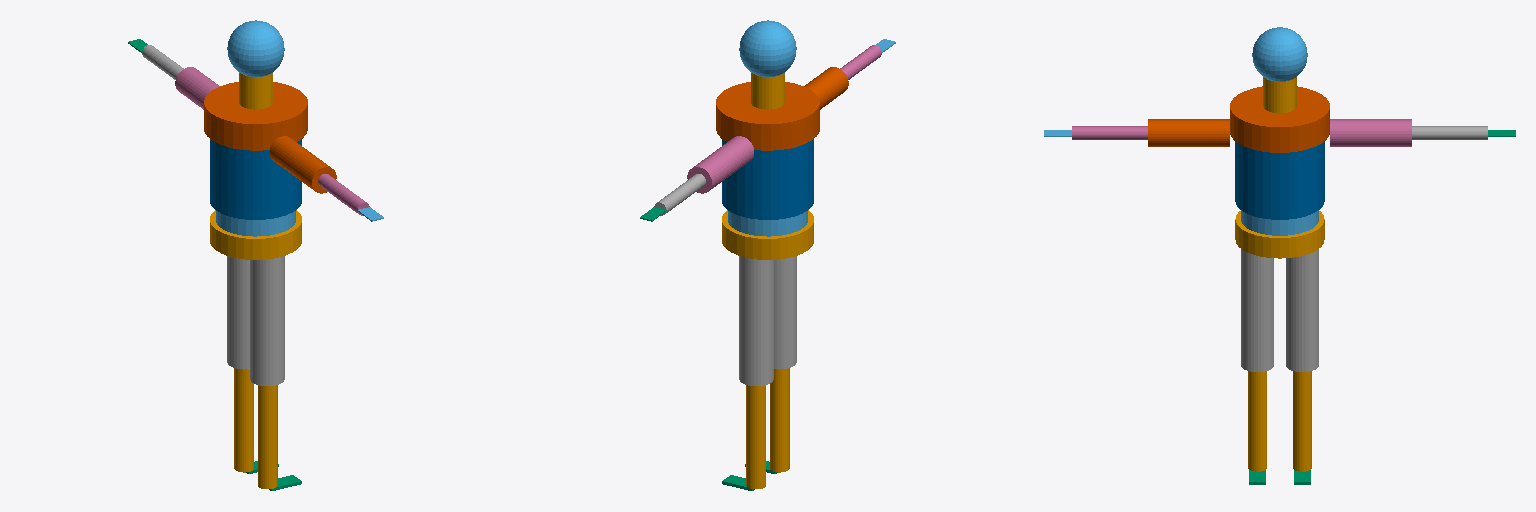
URDF robot description (human_model):
<?xml version="1.0" ?>
<robot name="human_model" xmlns:xacro="http://playerstage.sourceforge.net/gazebo/xmlschema/#interface">
  <link name="human/base">
    <visual>
      <origin rpy="0 0 0" xyz="0 0 -0.0405569060538"/>
      <geometry>
        <cylinder length="-0.0811138121076" radius="0.161172520845"/>
      </geometry>
    </visual>
  </link>
  <link name="human/spine_0">
    <visual>
      <origin rpy="0 0 0" xyz="0 0 0.0363124478192"/>
      <geometry>
        <cylinder length="0.0726248956383" radius="0.141172520845"/>
      </geometry>
    </visual>
  </link>
  <link name="human/spine_1"/>
  <link name="human/spine_2"/>
  <link name="human/spine">
    <visual>
      <origin rpy="0 0 0" xyz="0 0 0.137944030927"/>
      <geometry>
        <cylinder length="0.275888061853" radius="0.161172520845"/>
      </geometry>
    </visual>
  </link>
  <link name="human/shoulder_center">
    <visual>
      <origin rpy="0 0 0" xyz="0 0 0.050635057485"/>
      <geometry>
        <cylinder length="0.10127011497" radius="0.181172520845"/>
      </geometry>
    </visual>
  </link>
  <link name="human/neck_0"/>
  <link name="human/neck_1"/>
  <link name="human/neck">
    <visual>
      <origin rpy="0 0 0" xyz="0 0 0.102139711472"/>
      <geometry>
        <cylinder length="0.204279422944" radius="0.06"/>
      </geometry>
    </visual>
  </link>
  <link name="human/head">
    <visual>
      <origin rpy="0 0 0" xyz="0 0 0"/>
      <geometry>
        <sphere radius="0.1"/>
      </geometry>
    </visual>
  </link>
  <joint name="hip" type="fixed">
    <origin rpy="0 0 0" xyz="0 0 0"/>
    <parent link="human/base"/>
    <child link="human/spine_0"/>
  </joint>
  <!-- SPINE : spherical -->
  <joint name="spine_0" type="revolute">
    <origin rpy="0 0 0" xyz="0 0 0.0726248956383"/>
    <axis xyz="1 0 0"/>
    <parent link="human/spine_0"/>
    <child link="human/spine_1"/>
    <limit effort="1" lower="-1.57079632679" upper="1.57079632679" velocity="1"/>
  </joint>
  <joint name="spine_1" type="revolute">
    <origin rpy="0 0 0" xyz="0 0 0"/>
    <axis xyz="0 1 0"/>
    <parent link="human/spine_1"/>
    <child link="human/spine_2"/>
    <limit effort="1" lower="-1.57079632679" upper="1.57079632679" velocity="1"/>
  </joint>
  <joint name="spine_2" type="revolute">
    <origin rpy="0 0 0" xyz="0 0 0"/>
    <axis xyz="0 0 1"/>
    <parent link="human/spine_2"/>
    <child link="human/spine"/>
    <limit effort="1" lower="-1.57079632679" upper="1.57079632679" velocity="1"/>
  </joint>
  <joint name="shoulder_center" type="fixed">
    <origin rpy="0 0 0" xyz="0 0 0.275888061853"/>
    <parent link="human/spine"/>
    <child link="human/shoulder_center"/>
  </joint>
  <!-- NECK : spherical -->
  <joint name="neck_0" type="revolute">
    <origin rpy="0 0 0" xyz="0 0 0.10127011497"/>
    <axis xyz="1 0 0"/>
    <parent link="human/shoulder_center"/>
    <child link="human/neck_0"/>
    <limit effort="1" lower="-1.57079632679" upper="1.57079632679" velocity="1"/>
  </joint>
  <joint name="neck_1" type="revolute">
    <origin rpy="0 0 0" xyz="0 0 0"/>
    <axis xyz="0 1 0"/>
    <parent link="human/neck_0"/>
    <child link="human/neck_1"/>
    <limit effort="1" lower="-1.57079632679" upper="1.57079632679" velocity="1"/>
  </joint>
  <joint name="neck_2" type="revolute">
    <origin rpy="0 0 0" xyz="0 0 0"/>
    <axis xyz="0 0 1"/>
    <parent link="human/neck_1"/>
    <child link="human/neck"/>
    <limit effort="1" lower="-1.57079632679" upper="1.57079632679" velocity="1"/>
  </joint>
  <!-- END NECK -->
  <joint name="head" type="fixed">
    <origin rpy="0 0 0" xyz="0 0 0.204279422944"/>
    <parent link="human/neck"/>
    <child link="human/head"/>
  </joint>
  <link name="human/right_arm_mount"/>
  <link name="human/right_shoulder_0"/>
  <link name="human/right_shoulder_1"/>
  <link name="human/right_shoulder">
    <visual>
      <origin rpy="0 1.57079632679 0" xyz="0.147075804738 0 0"/>
      <geometry>
        <cylinder length="0.294151609476" radius="0.05"/>
      </geometry>
    </visual>
  </link>
  <link name="human/right_elbow">
    <visual>
      <origin rpy="0 1.57079632679 0" xyz="0.137074736994 0 0"/>
      <geometry>
        <cylinder length="0.274149473988" radius="0.025"/>
      </geometry>
    </visual>
  </link>
  <link name="human/right_wrist_0"/>
  <link name="human/right_wrist_1"/>
  <link name="human/right_wrist">
    <visual>
      <origin rpy="0 0 0" xyz="0.05 0 0"/>
      <geometry>
        <box size="0.1 0.05 .005"/>
      </geometry>
    </visual>
  </link>
  <link name="human/right_hand"/>
  <!-- Joints -->
  <joint name="right_arm_mount" type="fixed">
    <origin rpy="0 0 -1.57079632679" xyz="0 -0.181172520845 -0.00609526854636"/>
    <parent link="human/shoulder_center"/>
    <child link="human/right_arm_mount"/>
  </joint>
  <!-- SHOULDER : spherical -->
  <joint name="right_shoulder_0" type="revolute">
    <origin rpy="0 0 0" xyz="0 0 0"/>
    <axis xyz="0 1 0"/>
    <parent link="human/right_arm_mount"/>
    <child link="human/right_shoulder_0"/>
    <limit effort="1" lower="-1.57079632679" upper="1.57079632679" velocity="1"/>
  </joint>
  <joint name="right_shoulder_1" type="revolute">
    <origin rpy="0 0 0" xyz="0 0 0"/>
    <axis xyz="0 0 1"/>
    <parent link="human/right_shoulder_0"/>
    <child link="human/right_shoulder_1"/>
    <limit effort="1" lower="-1.57079632679" upper="2.35619449019" velocity="1"/>
  </joint>
  <joint name="right_shoulder_2" type="revolute">
    <origin rpy="0 0 0" xyz="0 0 0"/>
    <axis xyz="1 0 0"/>
    <parent link="human/right_shoulder_1"/>
    <child link="human/right_shoulder"/>
    <limit effort="1" lower="-1.57079632679" upper="1.57079632679" velocity="1"/>
  </joint>
  <!-- END SHOULDER -->
  <joint name="right_elbow_0" type="revolute">
    <origin rpy="0 0 0" xyz="0.294151609476 0 0"/>
    <axis xyz="0 0 1"/>
    <parent link="human/right_shoulder"/>
    <child link="human/right_elbow"/>
    <limit effort="1" lower="0.0" upper="3.14159265359" velocity="1"/>
  </joint>
  <joint name="right_wrist_0" type="revolute">
    <origin rpy="0 0 0" xyz="0.274149473988 0 0"/>
    <axis xyz="0 0 1"/>
    <parent link="human/right_elbow"/>
    <child link="human/right_wrist_0"/>
    <limit effort="1" lower="-0.78539816339" upper="0.78539816339" velocity="1"/>
  </joint>
  <joint name="right_wrist_1" type="revolute">
    <origin rpy="0 0 0" xyz="0 0 0"/>
    <axis xyz="0 1 0"/>
    <parent link="human/right_wrist_0"/>
    <child link="human/right_wrist_1"/>
    <limit effort="1" lower="-1.57079632679" upper="1.57079632679" velocity="1"/>
  </joint>
  <joint name="right_wrist_2" type="revolute">
    <origin rpy="0 0 0" xyz="0 0 0"/>
    <axis xyz="1 0 0"/>
    <parent link="human/right_wrist_1"/>
    <child link="human/right_wrist"/>
    <limit effort="1" lower="-1.57079632679" upper="1.57079632679" velocity="1"/>
  </joint>
  <joint name="right_hand" type="fixed">
    <origin rpy="0 0 0" xyz="0.1 0 0"/>
    <parent link="human/right_wrist"/>
    <child link="human/right_hand"/>
  </joint>
  <link name="human/left_arm_mount"/>
  <link name="human/left_shoulder_0"/>
  <link name="human/left_shoulder_1"/>
  <link name="human/left_shoulder">
    <visual>
      <origin rpy="0 1.57079632679 0" xyz="0.147075804738 0 0"/>
      <geometry>
        <cylinder length="0.294151609476" radius="0.05"/>
      </geometry>
    </visual>
  </link>
  <link name="human/left_elbow">
    <visual>
      <origin rpy="0 1.57079632679 0" xyz="0.137074736994 0 0"/>
      <geometry>
        <cylinder length="0.274149473988" radius="0.025"/>
      </geometry>
    </visual>
  </link>
  <link name="human/left_wrist_0"/>
  <link name="human/left_wrist_1"/>
  <link name="human/left_wrist">
    <visual>
      <origin rpy="0 0 0" xyz="0.05 0 0"/>
      <geometry>
        <box size="0.1 0.05 .005"/>
      </geometry>
    </visual>
  </link>
  <link name="human/left_hand"/>
  <!-- Joints -->
  <joint name="left_arm_mount" type="fixed">
    <origin rpy="0 0 1.57079632679" xyz="0 0.181172520845 -0.00609526854636"/>
    <parent link="human/shoulder_center"/>
    <child link="human/left_arm_mount"/>
  </joint>
  <!-- SHOULDER : spherical -->
  <joint name="left_shoulder_0" type="revolute">
    <origin rpy="0 0 0" xyz="0 0 0"/>
    <axis xyz="0 1 0"/>
    <parent link="human/left_arm_mount"/>
    <child link="human/left_shoulder_0"/>
    <limit effort="1" lower="-1.57079632679" upper="1.57079632679" velocity="1"/>
  </joint>
  <joint name="left_shoulder_1" type="revolute">
    <origin rpy="0 0 0" xyz="0 0 0"/>
    <axis xyz="0 0 1"/>
    <parent link="human/left_shoulder_0"/>
    <child link="human/left_shoulder_1"/>
    <limit effort="1" lower="-2.35619449019" upper="1.57079632679" velocity="1"/>
  </joint>
  <joint name="left_shoulder_2" type="revolute">
    <origin rpy="0 0 0" xyz="0 0 0"/>
    <axis xyz="1 0 0"/>
    <parent link="human/left_shoulder_1"/>
    <child link="human/left_shoulder"/>
    <limit effort="1" lower="-1.57079632679" upper="1.57079632679" velocity="1"/>
  </joint>
  <!-- END SHOULDER -->
  <joint name="left_elbow_0" type="revolute">
    <origin rpy="0 0 0" xyz="0.294151609476 0 0"/>
    <axis xyz="0 0 1"/>
    <parent link="human/left_shoulder"/>
    <child link="human/left_elbow"/>
    <limit effort="1" lower="-3.14159265359" upper="0.0" velocity="1"/>
  </joint>
  <joint name="left_wrist_0" type="revolute">
    <origin rpy="0 0 0" xyz="0.274149473988 0 0"/>
    <axis xyz="0 0 1"/>
    <parent link="human/left_elbow"/>
    <child link="human/left_wrist_0"/>
    <limit effort="1" lower="-0.78539816339" upper="0.78539816339" velocity="1"/>
  </joint>
  <joint name="left_wrist_1" type="revolute">
    <origin rpy="0 0 0" xyz="0 0 0"/>
    <axis xyz="0 1 0"/>
    <parent link="human/left_wrist_0"/>
    <child link="human/left_wrist_1"/>
    <limit effort="1" lower="-1.57079632679" upper="1.57079632679" velocity="1"/>
  </joint>
  <joint name="left_wrist_2" type="revolute">
    <origin rpy="0 0 0" xyz="0 0 0"/>
    <axis xyz="1 0 0"/>
    <parent link="human/left_wrist_1"/>
    <child link="human/left_wrist"/>
    <limit effort="1" lower="-1.57079632679" upper="1.57079632679" velocity="1"/>
  </joint>
  <joint name="left_hand" type="fixed">
    <origin rpy="0 0 0" xyz="0.1 0 0"/>
    <parent link="human/left_wrist"/>
    <child link="human/left_hand"/>
  </joint>
  <link name="human/right_leg_mount"/>
  <link name="human/right_hip_0"/>
  <link name="human/right_hip_1"/>
  <link name="human/right_hip">
    <visual>
      <origin rpy="0 1.57079632679 0" xyz="0.25 0 0"/>
      <geometry>
        <cylinder length="0.5" radius="0.06"/>
      </geometry>
    </visual>
  </link>
  <link name="human/right_knee">
    <visual>
      <origin rpy="0 1.57079632679 0" xyz="0.203668548616 0 0"/>
      <geometry>
        <cylinder length="0.407337097232" radius="0.035"/>
      </geometry>
    </visual>
  </link>
  <link name="human/right_ankle_0"/>
  <link name="human/right_ankle">
    <visual>
      <origin rpy="0 0 0" xyz="0.06 0 -0.006"/>
      <geometry>
        <box size="0.12 0.06 .012"/>
      </geometry>
    </visual>
  </link>
  <link name="human/right_foot"/>
  <!-- Joints -->
  <joint name="right_hip_leg_mount" type="fixed">
    <origin rpy="0 1.57079632679 0" xyz="0 -0.080553532998 -0.0811138121076"/>
    <parent link="human/base"/>
    <child link="human/right_leg_mount"/>
  </joint>
  <!-- hip : spherical -->
  <joint name="right_hip_0" type="revolute">
    <origin rpy="0 0 0" xyz="0 0 0"/>
    <axis xyz="0 0 1"/>
    <parent link="human/right_leg_mount"/>
    <child link="human/right_hip_0"/>
    <limit effort="1" lower="-1.57079632679" upper="1.57079632679" velocity="1"/>
  </joint>
  <joint name="right_hip_1" type="revolute">
    <origin rpy="0 0 0" xyz="0 0 0"/>
    <axis xyz="0 1 0"/>
    <parent link="human/right_hip_0"/>
    <child link="human/right_hip_1"/>
    <limit effort="1" lower="-1.57079632679" upper="1.57079632679" velocity="1"/>
  </joint>
  <joint name="right_hip_2" type="revolute">
    <origin rpy="0 0 0" xyz="0 0 0"/>
    <axis xyz="1 0 0"/>
    <parent link="human/right_hip_1"/>
    <child link="human/right_hip"/>
    <limit effort="1" lower="-1.57079632679" upper="1.57079632679" velocity="1"/>
  </joint>
  <!-- END hip -->
  <joint name="right_knee_0" type="revolute">
    <origin rpy="1.57079632679 0 0" xyz="0.5 0 0"/>
    <axis xyz="0 0 1"/>
    <parent link="human/right_hip"/>
    <child link="human/right_knee"/>
    <limit effort="1" lower="-3.14159265359" upper="0.1" velocity="1"/>
  </joint>
  <!-- ankle : spherical -->
  <joint name="right_ankle_0" type="revolute">
    <origin rpy="-1.57079632679 0 1.57079632679" xyz="0.407337097232 0 0"/>
    <axis xyz="0 0 1"/>
    <parent link="human/right_knee"/>
    <child link="human/right_ankle_0"/>
    <limit effort="1" lower="-1.57079632679" upper="1.57079632679" velocity="1"/>
  </joint>
  <joint name="right_ankle_1" type="revolute">
    <origin rpy="0 0 0" xyz="0 0 0"/>
    <axis xyz="0 1 0"/>
    <parent link="human/right_ankle_0"/>
    <child link="human/right_ankle"/>
    <limit effort="1" lower="-1.57079632679" upper="1.57079632679" velocity="1"/>
  </joint>
  <!-- END ankle -->
  <joint name="right_foot" type="fixed">
    <origin rpy="0 0 0" xyz="0.1 0 0"/>
    <parent link="human/right_ankle"/>
    <child link="human/right_foot"/>
  </joint>
  <link name="human/left_leg_mount"/>
  <link name="human/left_hip_0"/>
  <link name="human/left_hip_1"/>
  <link name="human/left_hip">
    <visual>
      <origin rpy="0 1.57079632679 0" xyz="0.25 0 0"/>
      <geometry>
        <cylinder length="0.5" radius="0.06"/>
      </geometry>
    </visual>
  </link>
  <link name="human/left_knee">
    <visual>
      <origin rpy="0 1.57079632679 0" xyz="0.203668548616 0 0"/>
      <geometry>
        <cylinder length="0.407337097232" radius="0.035"/>
      </geometry>
    </visual>
  </link>
  <link name="human/left_ankle_0"/>
  <link name="human/left_ankle">
    <visual>
      <origin rpy="0 0 0" xyz="0.06 0 -0.006"/>
      <geometry>
        <box size="0.12 0.06 .012"/>
      </geometry>
    </visual>
  </link>
  <link name="human/left_foot"/>
  <!-- Joints -->
  <joint name="left_hip_leg_mount" type="fixed">
    <origin rpy="0 1.57079632679 0" xyz="0 0.080553532998 -0.0811138121076"/>
    <parent link="human/base"/>
    <child link="human/left_leg_mount"/>
  </joint>
  <!-- hip : spherical -->
  <joint name="left_hip_0" type="revolute">
    <origin rpy="0 0 0" xyz="0 0 0"/>
    <axis xyz="0 0 1"/>
    <parent link="human/left_leg_mount"/>
    <child link="human/left_hip_0"/>
    <limit effort="1" lower="-1.57079632679" upper="1.57079632679" velocity="1"/>
  </joint>
  <joint name="left_hip_1" type="revolute">
    <origin rpy="0 0 0" xyz="0 0 0"/>
    <axis xyz="0 1 0"/>
    <parent link="human/left_hip_0"/>
    <child link="human/left_hip_1"/>
    <limit effort="1" lower="-1.57079632679" upper="1.57079632679" velocity="1"/>
  </joint>
  <joint name="left_hip_2" type="revolute">
    <origin rpy="0 0 0" xyz="0 0 0"/>
    <axis xyz="1 0 0"/>
    <parent link="human/left_hip_1"/>
    <child link="human/left_hip"/>
    <limit effort="1" lower="-1.57079632679" upper="1.57079632679" velocity="1"/>
  </joint>
  <!-- END hip -->
  <joint name="left_knee_0" type="revolute">
    <origin rpy="1.57079632679 0 0" xyz="0.5 0 0"/>
    <axis xyz="0 0 1"/>
    <parent link="human/left_hip"/>
    <child link="human/left_knee"/>
    <limit effort="1" lower="-3.14159265359" upper="0.1" velocity="1"/>
  </joint>
  <!-- ankle : spherical -->
  <joint name="left_ankle_0" type="revolute">
    <origin rpy="-1.57079632679 0 1.57079632679" xyz="0.407337097232 0 0"/>
    <axis xyz="0 0 1"/>
    <parent link="human/left_knee"/>
    <child link="human/left_ankle_0"/>
    <limit effort="1" lower="-1.57079632679" upper="1.57079632679" velocity="1"/>
  </joint>
  <joint name="left_ankle_1" type="revolute">
    <origin rpy="0 0 0" xyz="0 0 0"/>
    <axis xyz="0 1 0"/>
    <parent link="human/left_ankle_0"/>
    <child link="human/left_ankle"/>
    <limit effort="1" lower="-1.57079632679" upper="1.57079632679" velocity="1"/>
  </joint>
  <!-- END ankle -->
  <joint name="left_foot" type="fixed">
    <origin rpy="0 0 0" xyz="0.1 0 0"/>
    <parent link="human/left_ankle"/>
    <child link="human/left_foot"/>
  </joint>
</robot>

--- Facts derived from the render (not from the file) ---
Views: 3 orthographic renders of the robot side by side, from view 1: azimuth 30°, elevation 25°; view 2: azimuth 150°, elevation 25°; view 3: azimuth 270°, elevation 25°.
Model human_model with 44 links and 43 joints (32 revolute, 11 fixed), rooted at human/base, posed all joints at 0.
Visible links, largest first — view 1: human/spine, human/shoulder_center, human/right_hip, human/head, human/left_hip, human/base, human/right_knee, human/left_knee, human/right_shoulder, human/spine_0, human/neck, human/left_shoulder (+2 smaller); view 2: human/spine, human/shoulder_center, human/left_hip, human/head, human/right_hip, human/base, human/left_knee, human/right_knee, human/left_shoulder, human/spine_0, human/neck, human/right_shoulder (+2 smaller); view 3: human/spine, human/shoulder_center, human/right_hip, human/left_hip, human/head, human/right_shoulder, human/left_shoulder, human/base, human/right_knee, human/left_knee, human/spine_0, human/right_elbow (+2 smaller).
Boxes of the visible links, x1=… form: human/spine: x1=210, y1=139, x2=301, y2=219; human/shoulder_center: x1=204, y1=82, x2=307, y2=150; human/right_hip: x1=250, y1=256, x2=284, y2=385; human/head: x1=227, y1=20, x2=284, y2=76; human/left_hip: x1=227, y1=256, x2=249, y2=369; human/base: x1=210, y1=210, x2=301, y2=259; human/right_knee: x1=258, y1=385, x2=277, y2=488; human/left_knee: x1=234, y1=368, x2=253, y2=472; human/right_shoulder: x1=270, y1=136, x2=336, y2=193; human/spine_0: x1=216, y1=211, x2=295, y2=236; human/neck: x1=239, y1=73, x2=272, y2=109; human/left_shoulder: x1=175, y1=67, x2=219, y2=109; human/spine: x1=722, y1=139, x2=813, y2=219; human/shoulder_center: x1=716, y1=82, x2=819, y2=150; human/left_hip: x1=739, y1=256, x2=773, y2=385; human/head: x1=739, y1=20, x2=796, y2=76; human/right_hip: x1=774, y1=256, x2=796, y2=369; human/base: x1=722, y1=210, x2=813, y2=259; human/left_knee: x1=746, y1=385, x2=765, y2=488; human/right_knee: x1=770, y1=368, x2=789, y2=472; human/left_shoulder: x1=687, y1=136, x2=753, y2=193; human/spine_0: x1=728, y1=211, x2=807, y2=236; human/neck: x1=751, y1=73, x2=784, y2=109; human/right_shoulder: x1=804, y1=67, x2=848, y2=109; human/spine: x1=1235, y1=141, x2=1324, y2=219; human/shoulder_center: x1=1230, y1=86, x2=1329, y2=152; human/right_hip: x1=1241, y1=249, x2=1273, y2=371; human/left_hip: x1=1286, y1=249, x2=1318, y2=371; human/head: x1=1252, y1=27, x2=1307, y2=81; human/right_shoulder: x1=1148, y1=119, x2=1229, y2=146; human/left_shoulder: x1=1330, y1=119, x2=1411, y2=146; human/base: x1=1235, y1=211, x2=1324, y2=258; human/right_knee: x1=1248, y1=371, x2=1266, y2=471; human/left_knee: x1=1293, y1=371, x2=1311, y2=471; human/spine_0: x1=1241, y1=210, x2=1318, y2=235; human/right_elbow: x1=1072, y1=126, x2=1147, y2=139.
Bounding box of the posed robot: 0.3623 × 1.7 × 1.75 m (x, y, z).
Geometry: primitives only (box / cylinder / sphere), no mesh files.